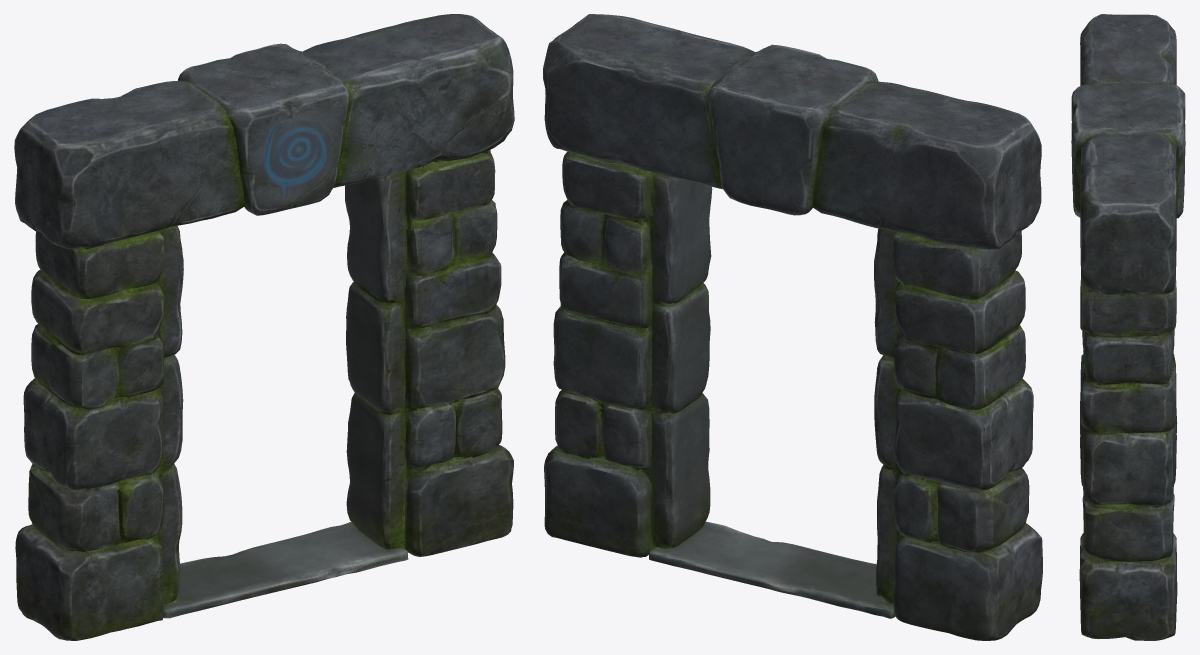
File: meadows_arch_biome5.glb
3 renders of one model, left to right at view 1: azimuth 30°, elevation 25°; view 2: azimuth 150°, elevation 25°; view 3: azimuth 270°, elevation 25°, orthographic. The views are drawn at different scales.
Visible parts, largest first — view 1: Mesh_0; view 2: Mesh_0; view 3: Mesh_0.
Boxes of the visible parts, x1=… form: Mesh_0: x1=14, y1=14, x2=514, y2=640; Mesh_0: x1=543, y1=14, x2=1042, y2=640; Mesh_0: x1=1071, y1=14, x2=1185, y2=640.
Bounding box in the file's own units: 1.82 × 1.9 × 0.4464.
1 material, 1 textured.
